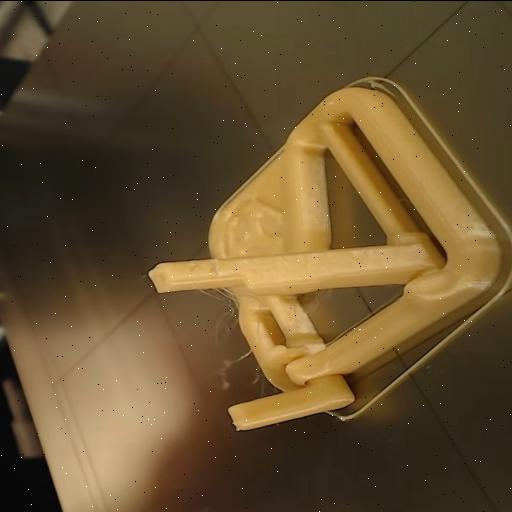stringing: (192, 282, 276, 385)
